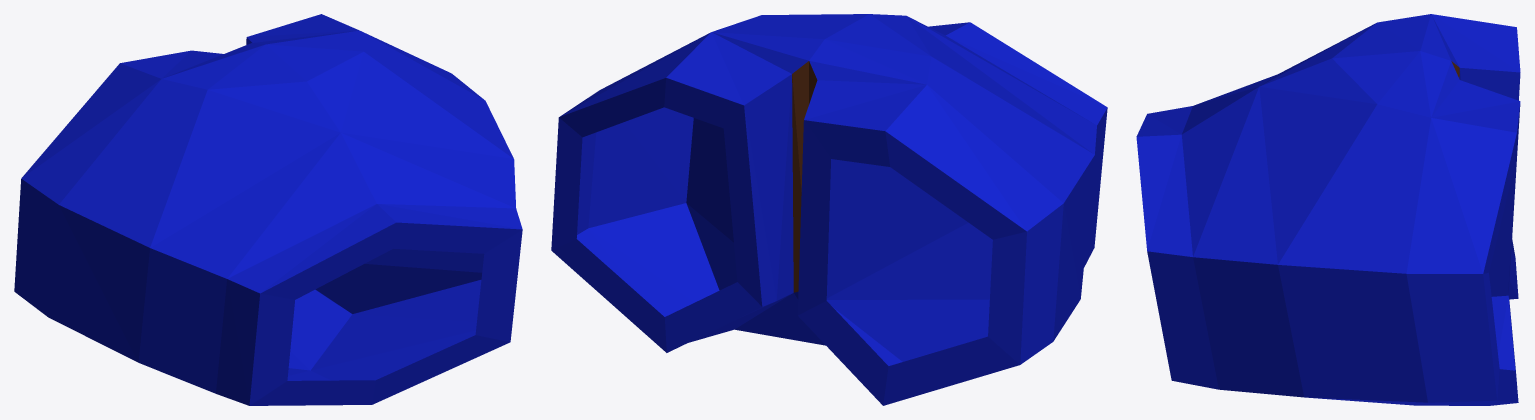
The model's file is shorts.obj.
3 views of the same model, side by side, from view 1: azimuth 30°, elevation 25°; view 2: azimuth 150°, elevation 25°; view 3: azimuth 270°, elevation 25° (orthographic). The views are drawn at different scales.
Visible parts, largest first — view 1: pants4; view 2: pants4; view 3: pants4.
Boxes of the visible parts, x1,y1,x2,y2 form: pants4: [14, 14, 522, 405]; pants4: [551, 14, 1107, 405]; pants4: [1136, 14, 1520, 405].
Size of the model in its own units: 2.22 by 1.44 by 1.59.
